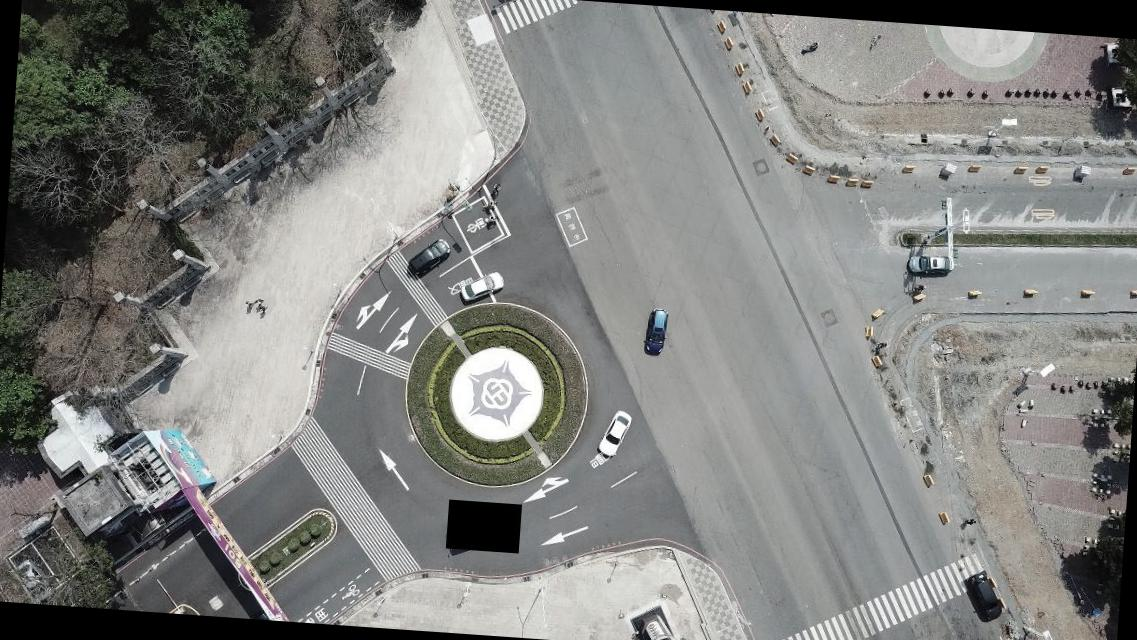vehicle: (404, 234, 452, 276), (964, 570, 1004, 620), (597, 408, 633, 458), (460, 268, 505, 304), (643, 306, 669, 356), (906, 253, 954, 274)
